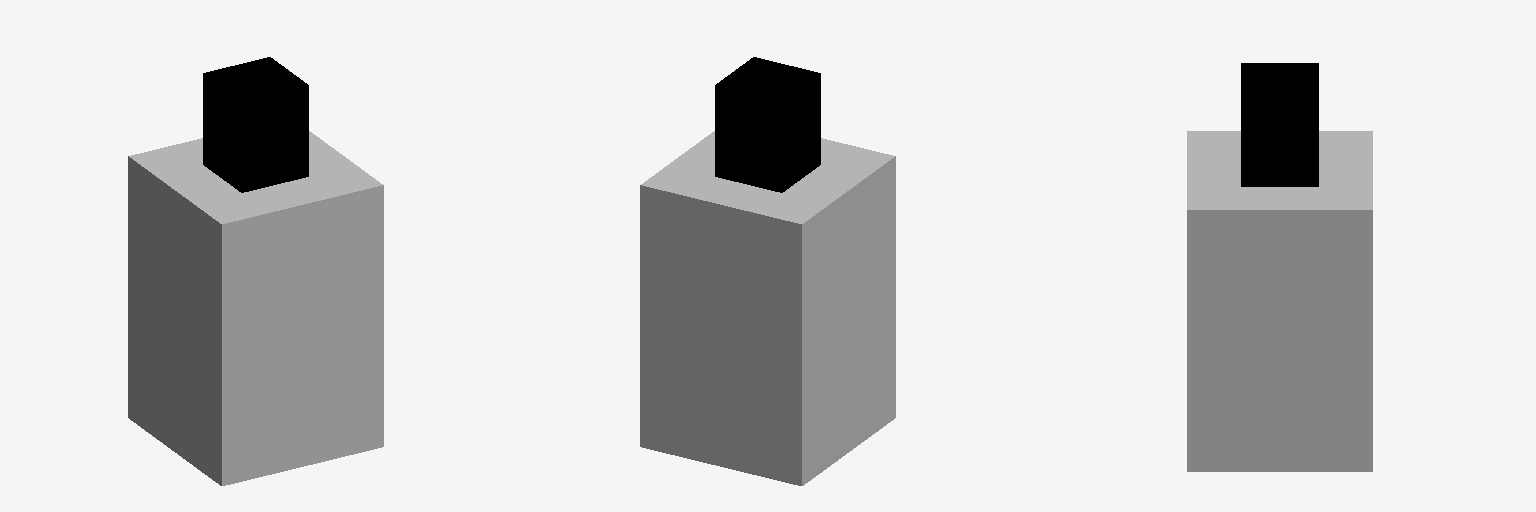
Rendered from lightobj.obj.
3 renders of one model, left to right at view 1: azimuth 30°, elevation 25°; view 2: azimuth 150°, elevation 25°; view 3: azimuth 270°, elevation 25°, orthographic.
Visible parts, largest first — view 1: Cube.002; view 2: Cube.002; view 3: Cube.002.
Part boxes in pixels (x1,y1,x2,y2): Cube.002: (128,57,383,485); Cube.002: (640,57,895,485); Cube.002: (1187,63,1372,471).
Bounding box in the file's own units: 0.1802 × 0.3762 × 0.1802.